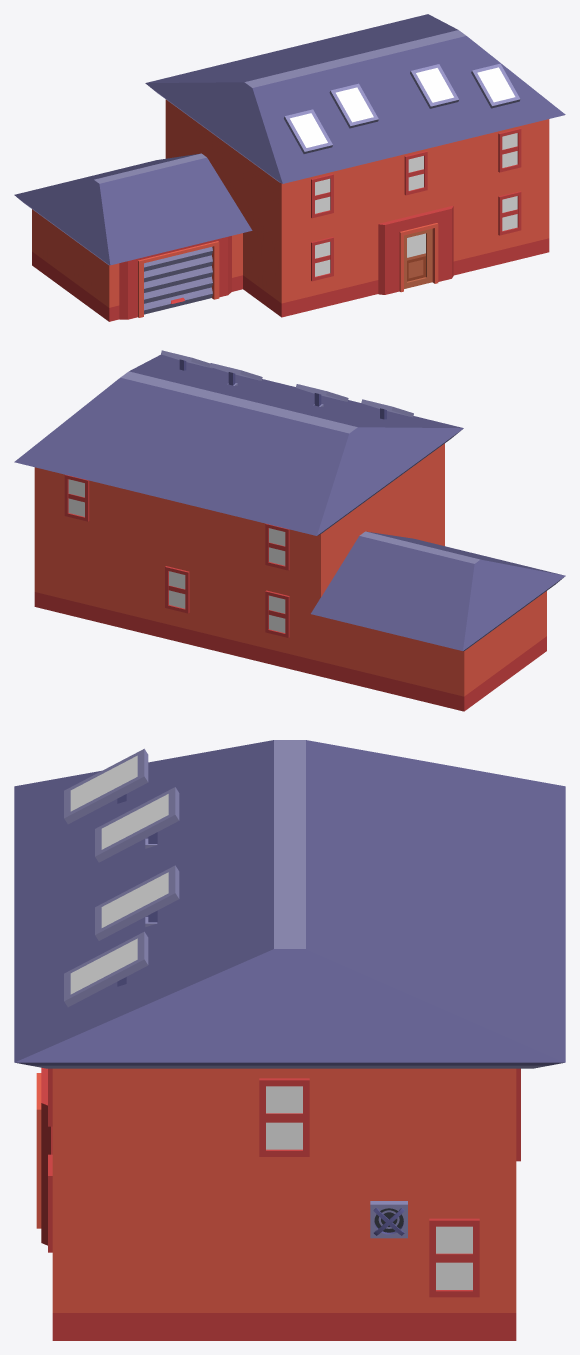
Rendered from house.fbx.
3 views of the same model, one above another, from view 1: azimuth 30°, elevation 25°; view 2: azimuth 150°, elevation 25°; view 3: azimuth 270°, elevation 25° (orthographic). The views are drawn at different scales.
Visible parts, largest first — view 1: mergedBlocks; view 2: mergedBlocks; view 3: mergedBlocks.
Boxes of the visible parts, x1=… form: mergedBlocks: x1=14, y1=14, x2=565, y2=321; mergedBlocks: x1=14, y1=350, x2=565, y2=711; mergedBlocks: x1=14, y1=740, x2=565, y2=1340.
Size of the model in its own units: 62.3 by 26.43 by 35.66.
